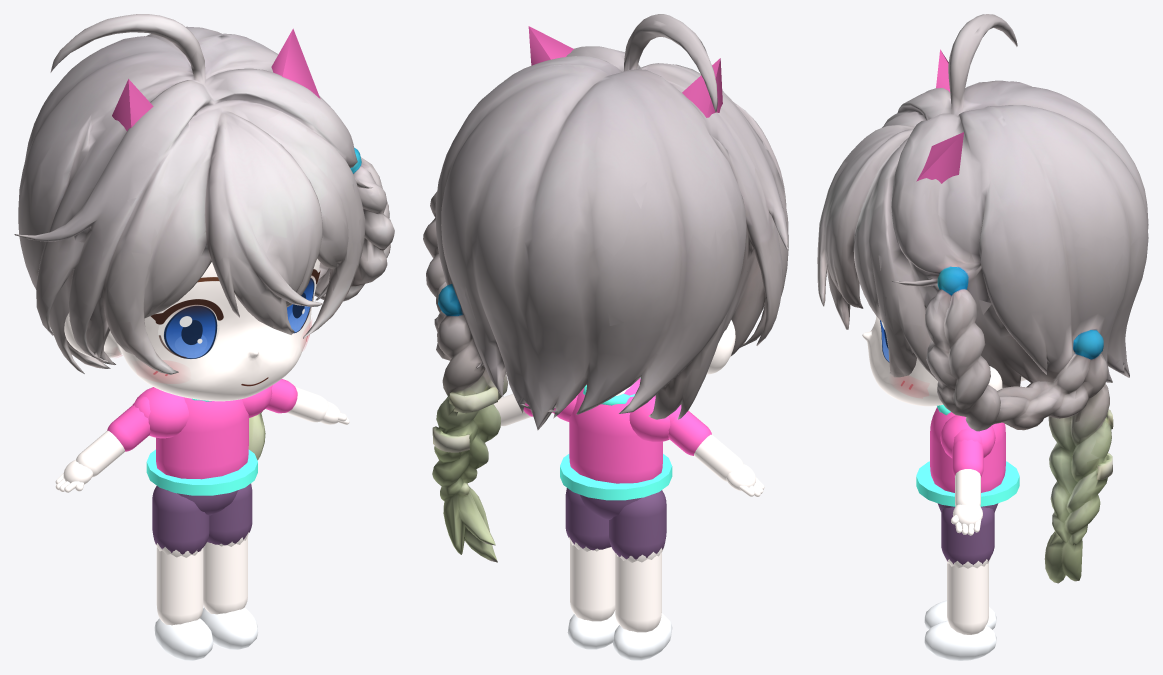
Rendered from nova.glb.
3 views of the same model, side by side, from view 1: azimuth 30°, elevation 25°; view 2: azimuth 150°, elevation 25°; view 3: azimuth 270°, elevation 25° (orthographic). The views are drawn at different scales.
Parts seen in each view (by area): view 1: Head, Legs, HeadSkin, Upper, Face, ArmR, ArmL; view 2: Head, Legs, Upper, ArmR, HeadSkin, ArmL; view 3: Head, Legs, Upper, ArmL, HeadSkin, Face.
Part boxes in pixels (x1=…): Head: x1=14, y1=14, x2=394, y2=460; Legs: x1=152, y1=483, x2=258, y2=660; HeadSkin: x1=64, y1=259, x2=320, y2=401; Upper: x1=135, y1=386, x2=272, y2=515; Face: x1=118, y1=269, x2=320, y2=386; ArmR: x1=55, y1=396, x2=150, y2=492; ArmL: x1=265, y1=379, x2=349, y2=424; Head: x1=423, y1=14, x2=788, y2=562; Legs: x1=565, y1=488, x2=672, y2=660; Upper: x1=552, y1=378, x2=672, y2=519; ArmR: x1=668, y1=404, x2=764, y2=496; HeadSkin: x1=616, y1=320, x2=735, y2=395; ArmL: x1=494, y1=394, x2=552, y2=426; Head: x1=817, y1=14, x2=1148, y2=583; Legs: x1=924, y1=507, x2=996, y2=660; Upper: x1=916, y1=404, x2=1019, y2=512; ArmL: x1=951, y1=428, x2=983, y2=535; HeadSkin: x1=862, y1=316, x2=1026, y2=406; Face: x1=879, y1=319, x2=928, y2=397.
Size of the model in its own units: 2.13 by 3.58 by 1.79.
Materials: 9 (2 with a texture image).
